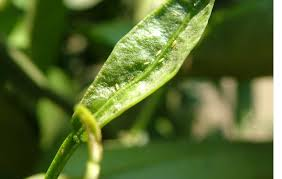Thrips: (151, 50, 165, 58), (170, 37, 176, 51)
